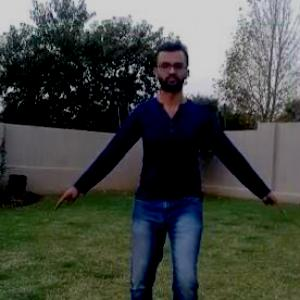land: (31, 29, 299, 299)
